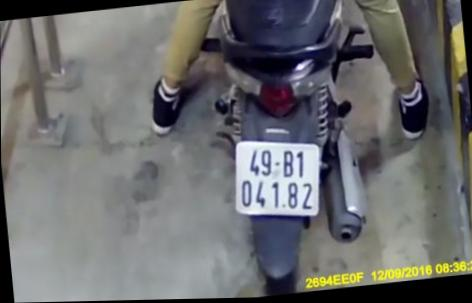LP: (227, 132, 326, 227)
